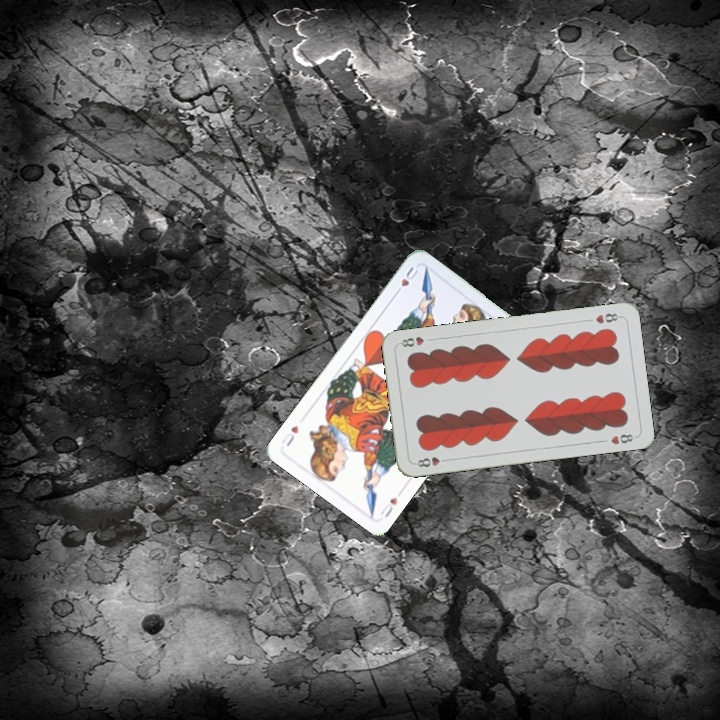H8: (411, 453, 451, 469), (591, 309, 623, 326)
HU: (390, 262, 421, 298), (377, 492, 400, 520)
